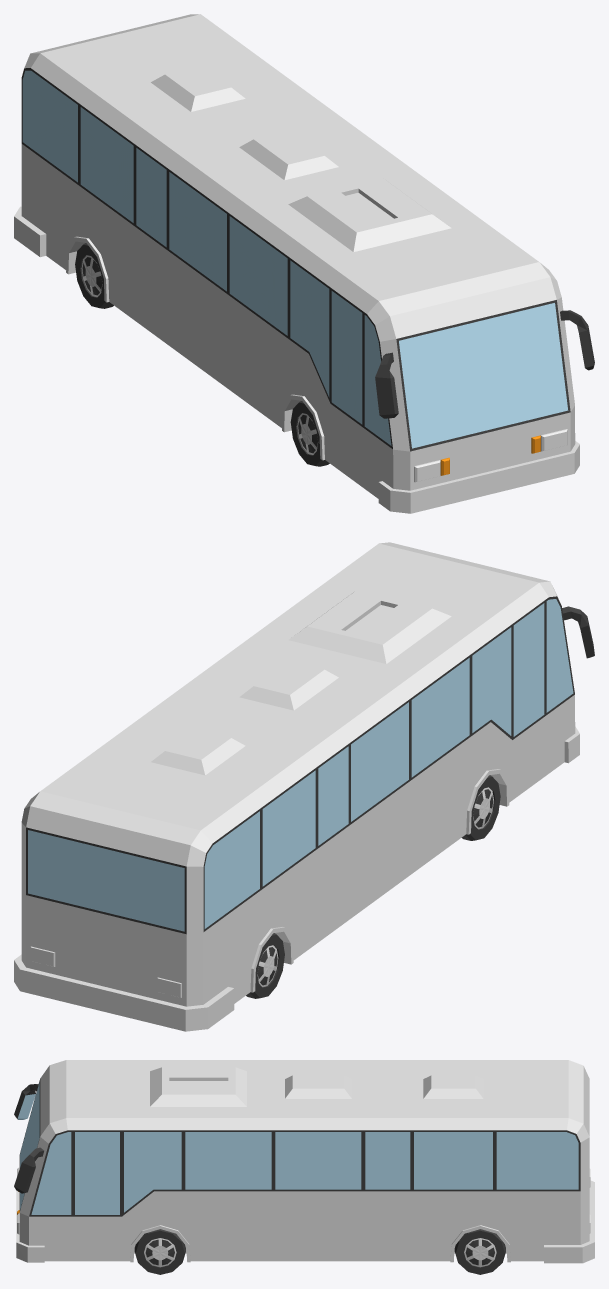
Rendered from bus.obj.
3 renders of one model, top to bottom at view 1: azimuth 30°, elevation 25°; view 2: azimuth 150°, elevation 25°; view 3: azimuth 270°, elevation 25°, orthographic. The views are drawn at different scales.
Parts seen in each view (by area): view 1: Bus; view 2: Bus; view 3: Bus.
Boxes of the visible parts, bbox=[...] form: Bus: bbox=[14, 14, 594, 513]; Bus: bbox=[14, 542, 594, 1031]; Bus: bbox=[14, 1060, 594, 1274].
Bounding box in the file's own units: 50.06 × 48.81 × 157.
1 material, 1 textured.
